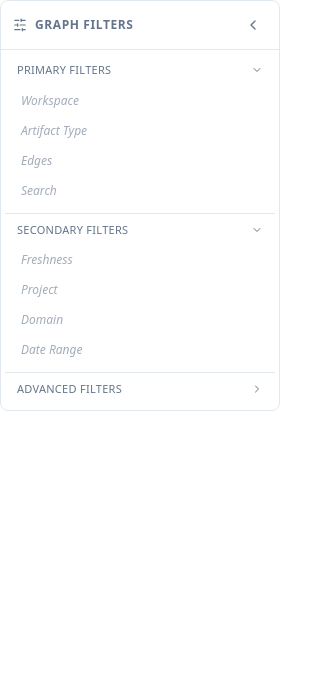
Test case: FilterSidebar — 16-dimension section layout (P3-13a) › Advanced section contains all 8 advanced dims when expanded
The width and height of the screenshot is (320, 674).
// Expand the Advanced section
Click the button "Advanced Filters": {"x": 69, "y": 388} [5, 373, 275, 406]
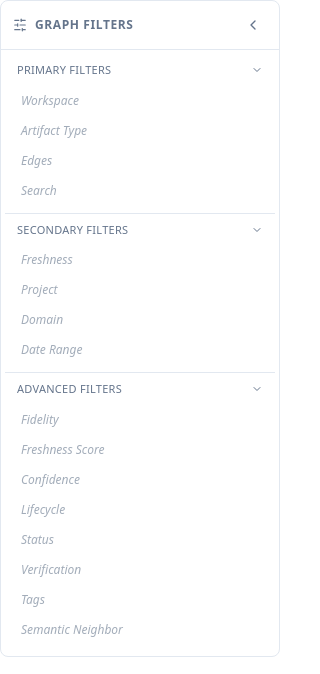
expect the text "Fidelity" is shown: met, box [21, 410, 58, 428]
expect the text "Freshness Score" is shown: met, box [21, 440, 105, 458]
expect the text "Confidence" is shown: met, box [21, 470, 80, 488]
